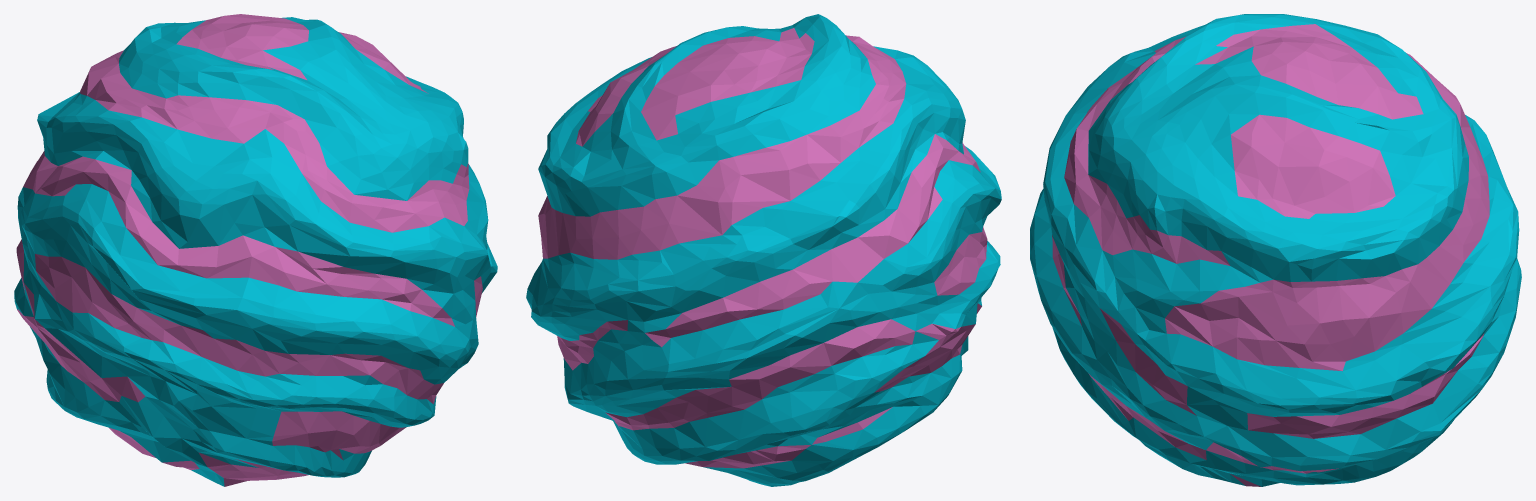
Rendered from Planet_33.glb.
3 renders of one model, left to right at view 1: azimuth 30°, elevation 25°; view 2: azimuth 150°, elevation 25°; view 3: azimuth 270°, elevation 25°, orthographic. The views are drawn at different scales.
Parts seen in each view (by area): view 1: Planet_33; view 2: Planet_33; view 3: Planet_33.
Boxes of the visible parts, x1,y1,x2,y2 form: Planet_33: [14, 14, 497, 486]; Planet_33: [526, 14, 1001, 486]; Planet_33: [1030, 14, 1521, 486].
Bounding box in the file's own units: 21.01 × 20.44 × 21.87.
Materials: 1 (1 with a texture image).
